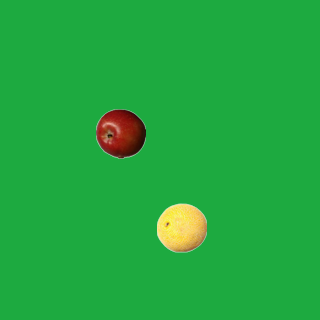Apple Braeburn: (95, 108, 145, 158)
Cantaloupe 1: (156, 202, 206, 252)
